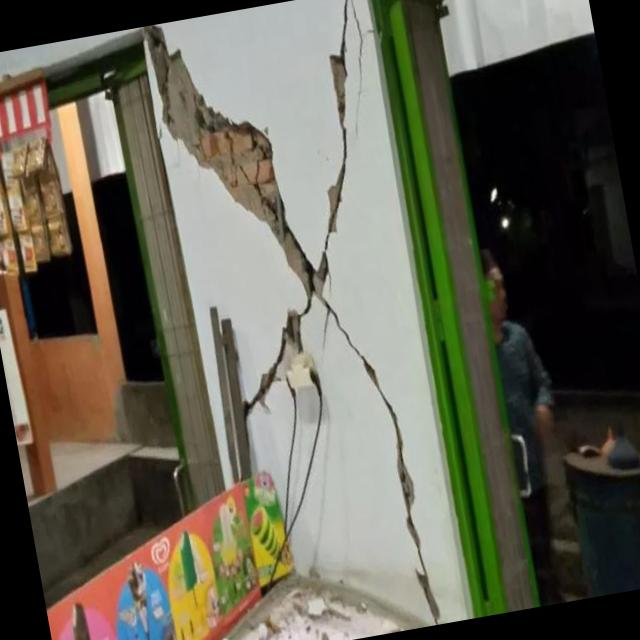crack: (142, 0, 441, 622)
